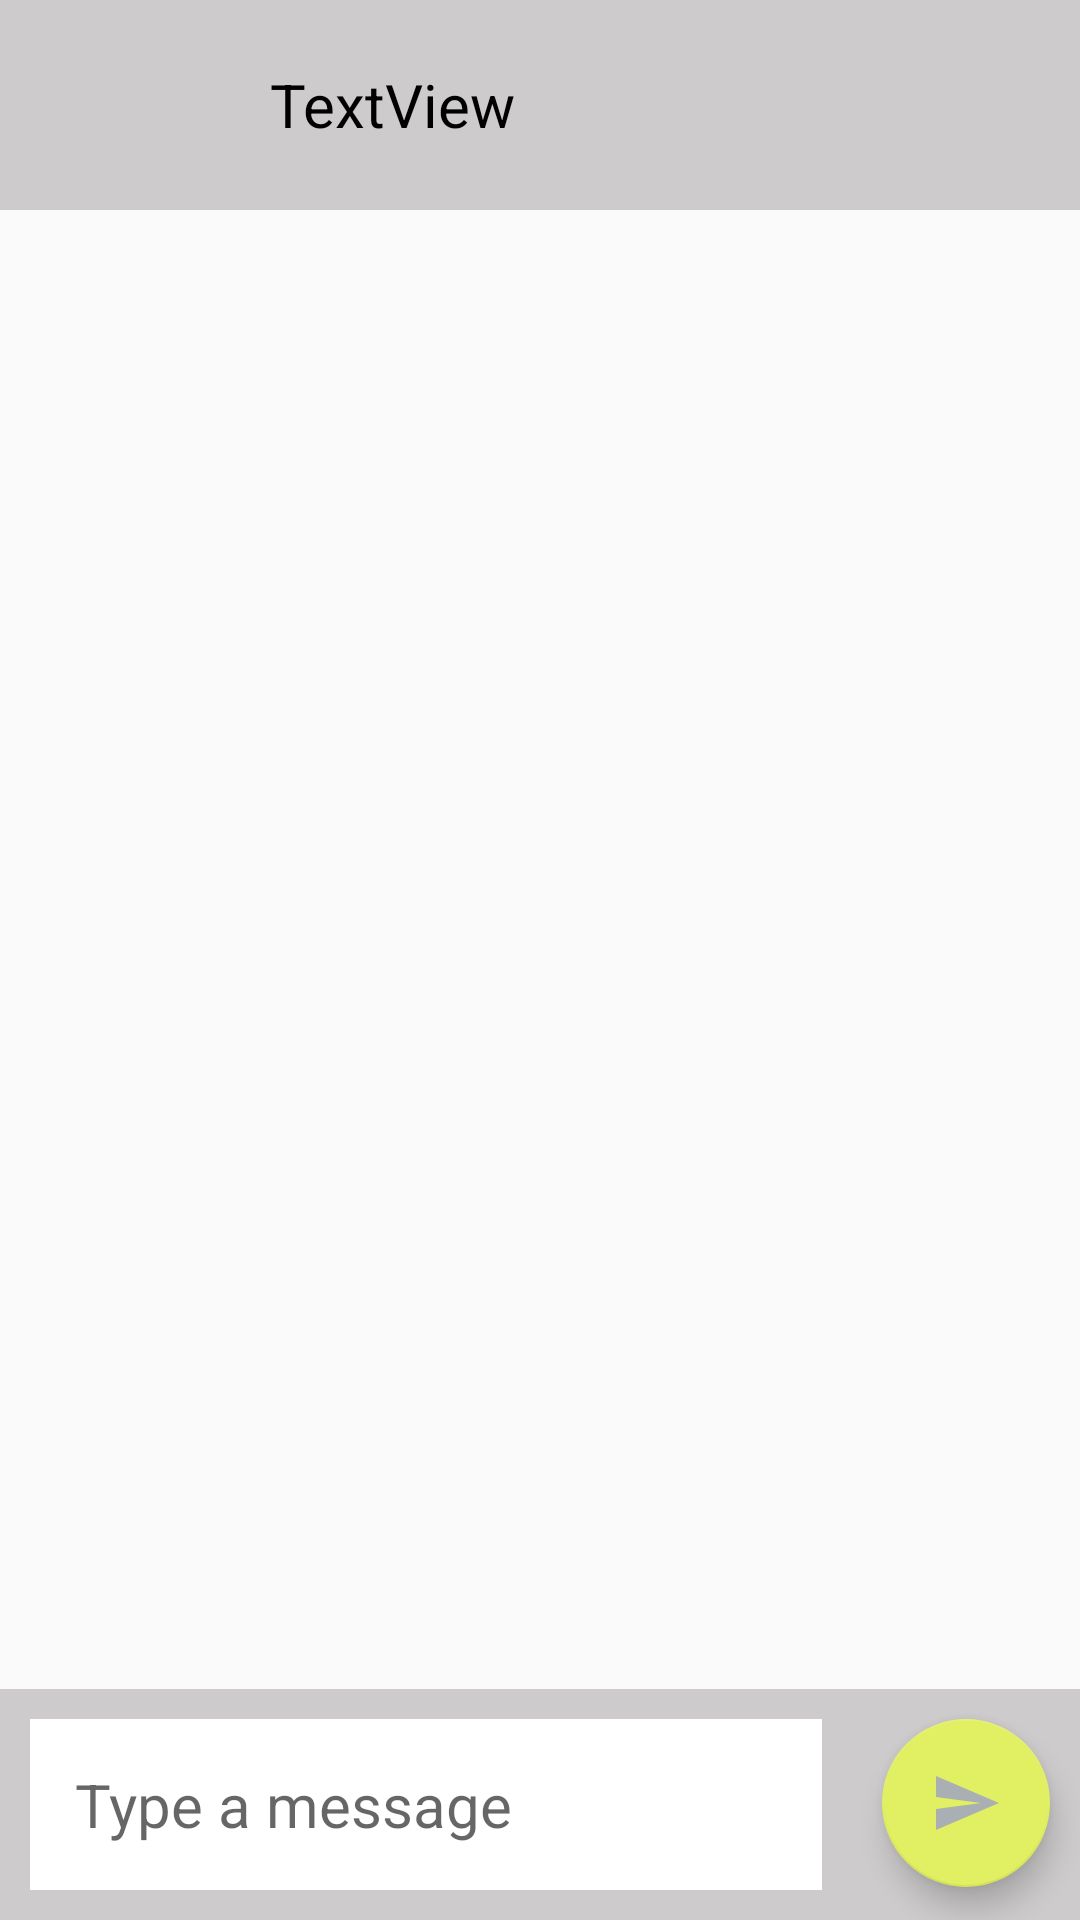

Screen size 1080 × 1920. Icon name, then its center in pixels as (x=x, y=y):
send: (x=966, y=1803)
